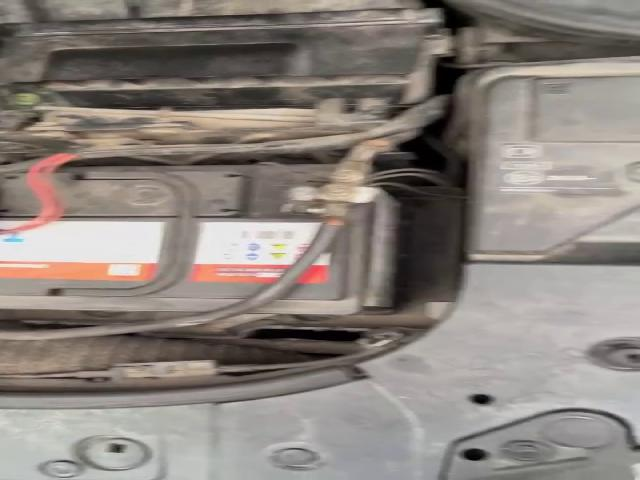accumulator: (2, 162, 407, 317)
fuse_box: (463, 57, 638, 260)
